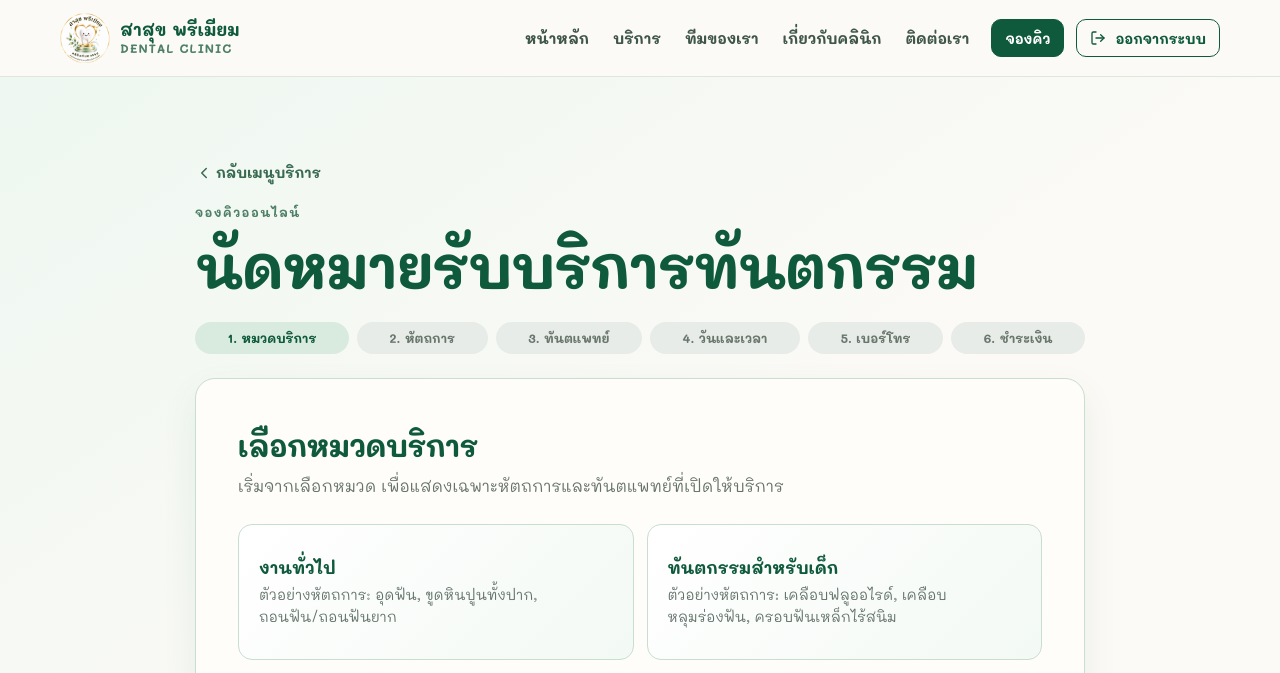
Test: clinic SPA › returns from service booking to the patient menu
Click the link "กลับเมนูบริการ" at (258, 172), box [195, 163, 321, 182]
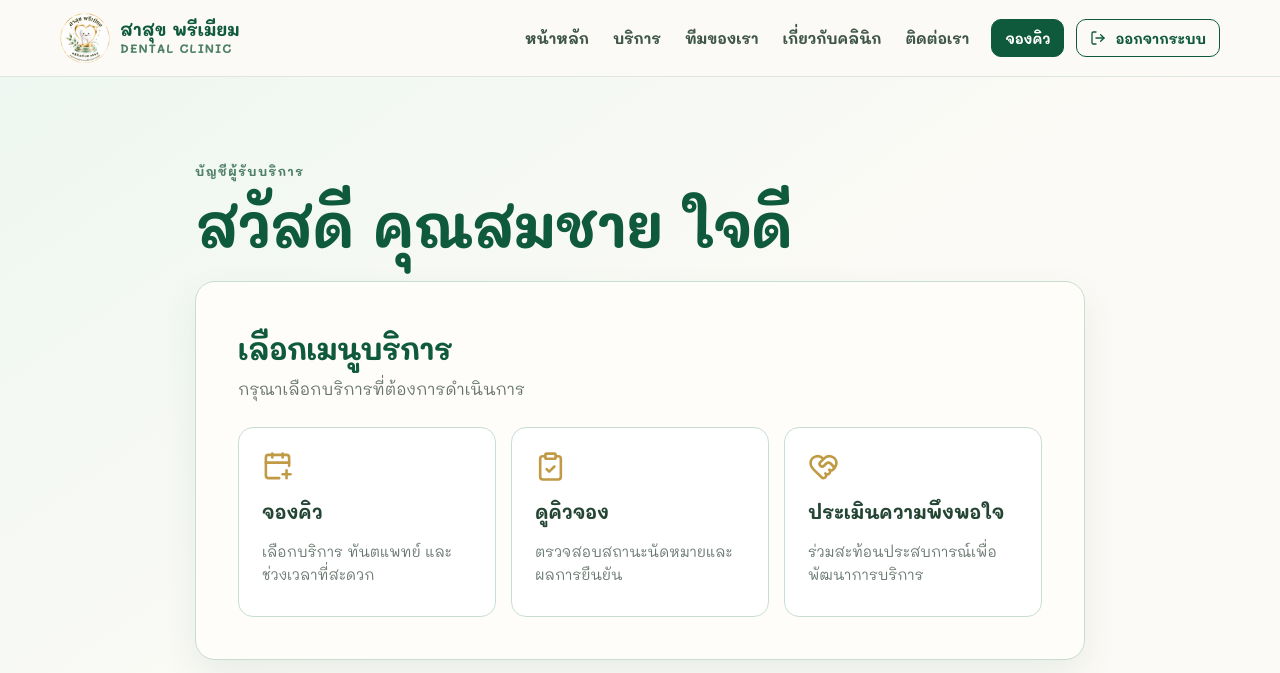
Check: the heading "เลือกเมนูบริการ" is shown, box [238, 329, 452, 367]
